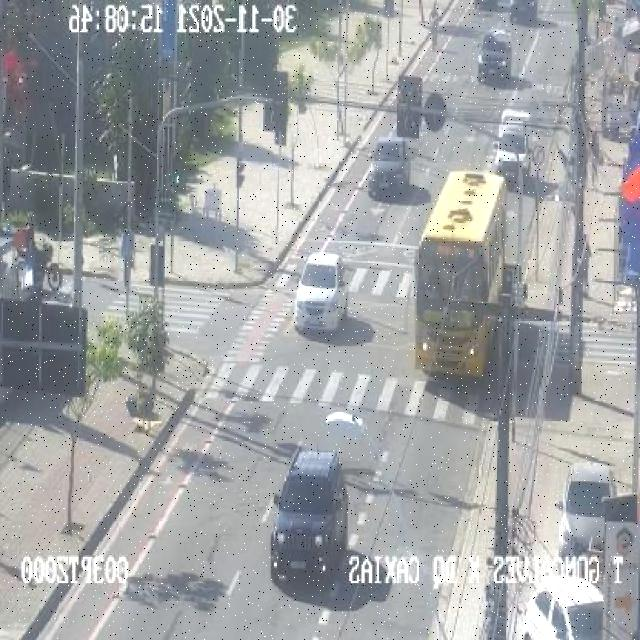Bus: (409, 165, 513, 387)
Car: (270, 448, 351, 584), (514, 574, 605, 638), (558, 462, 617, 558), (295, 250, 349, 332), (490, 109, 534, 183), (369, 135, 414, 197), (478, 29, 513, 84), (509, 1, 538, 23), (475, 0, 505, 13)
Cycle: (41, 249, 63, 291)
